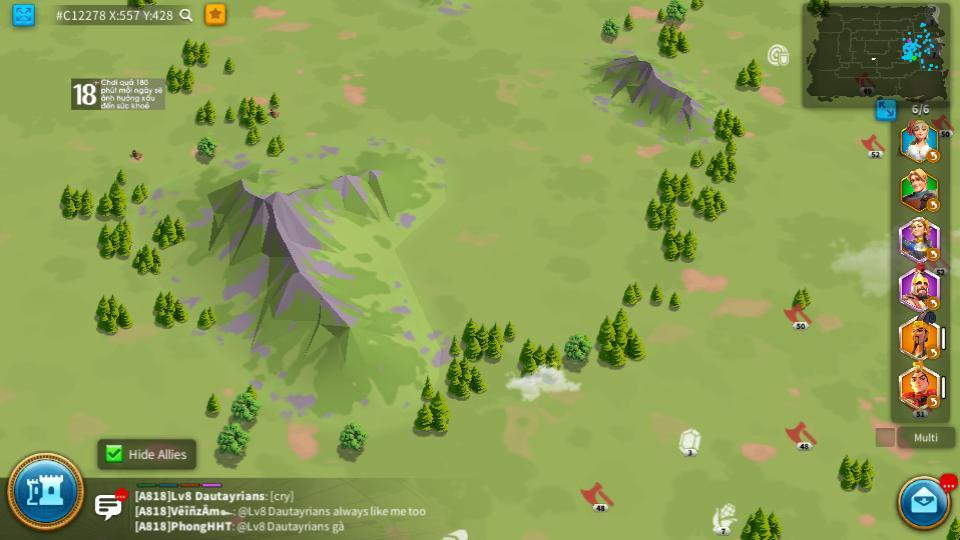gem-z-out: (677, 429, 702, 455), (445, 528, 469, 539)
march_returning: (926, 396, 941, 407), (926, 151, 940, 162), (927, 248, 941, 259), (925, 348, 938, 359), (927, 201, 940, 212), (925, 297, 938, 307)
